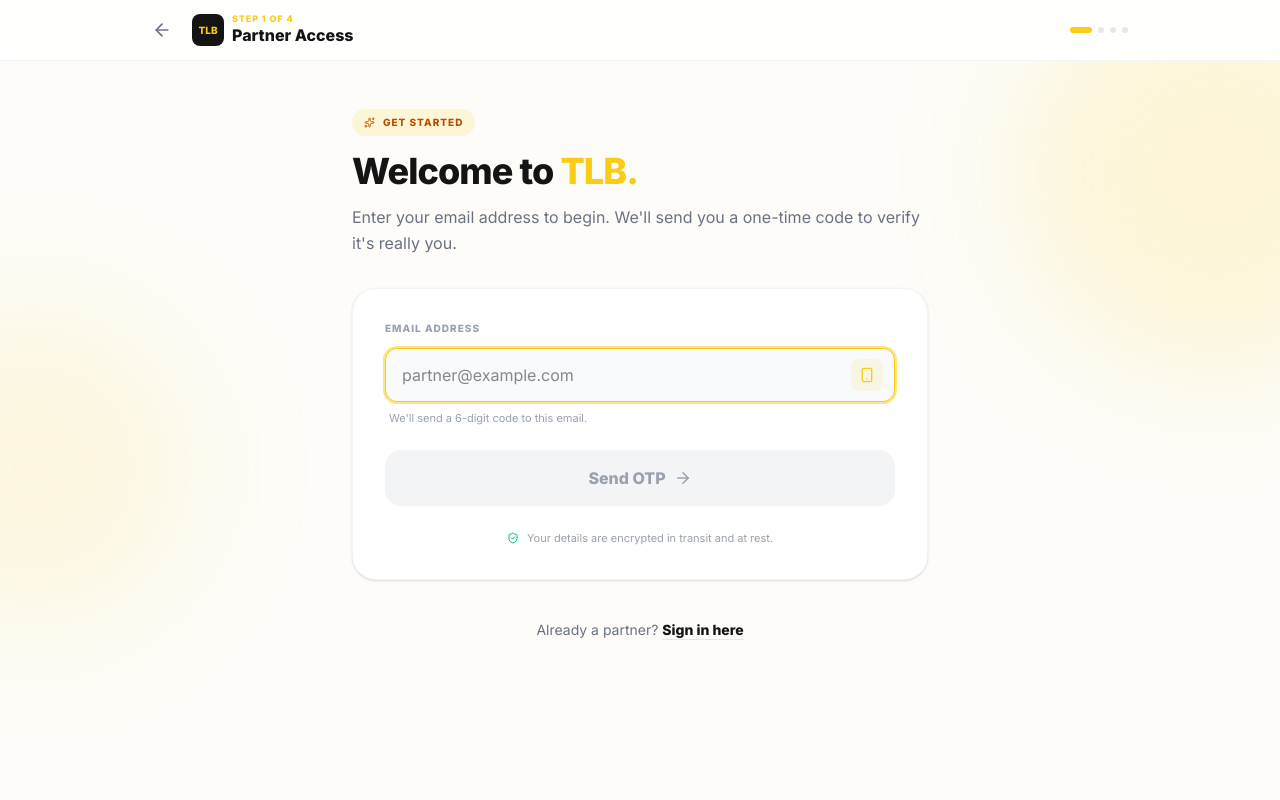
it: PartnerAccess — mobile OTP is not available yet › explains that a mobile number can’t be used yet and keeps Send OTP disabled
The width and height of the screenshot is (1280, 800).
Type "9021598876" into the field with placeholder "partner@example.com" at (640, 375), box 385,348 -> 895,402
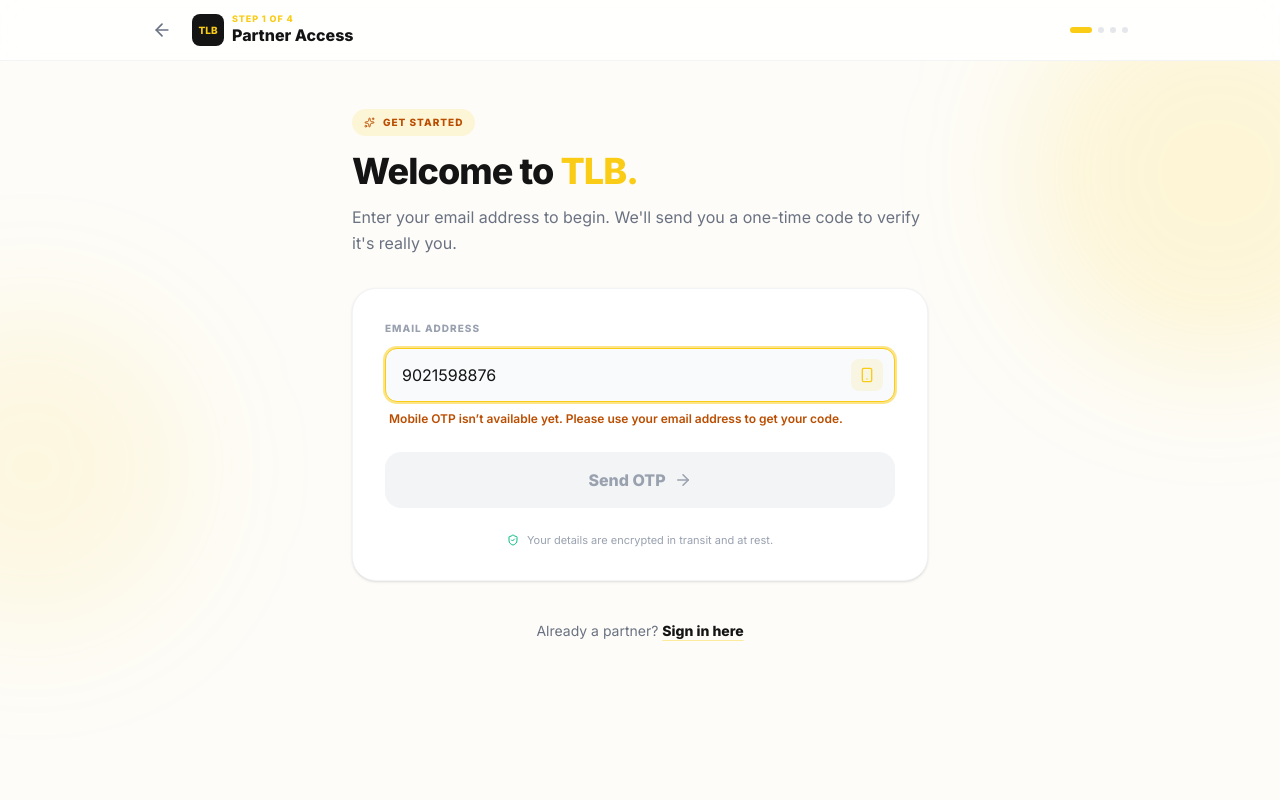
Expected: the button "Send OTP" is disabled, 385,452 -> 895,508
Result: the text "Mobile OTP isn’t available yet" is shown at 389,411 -> 843,426
